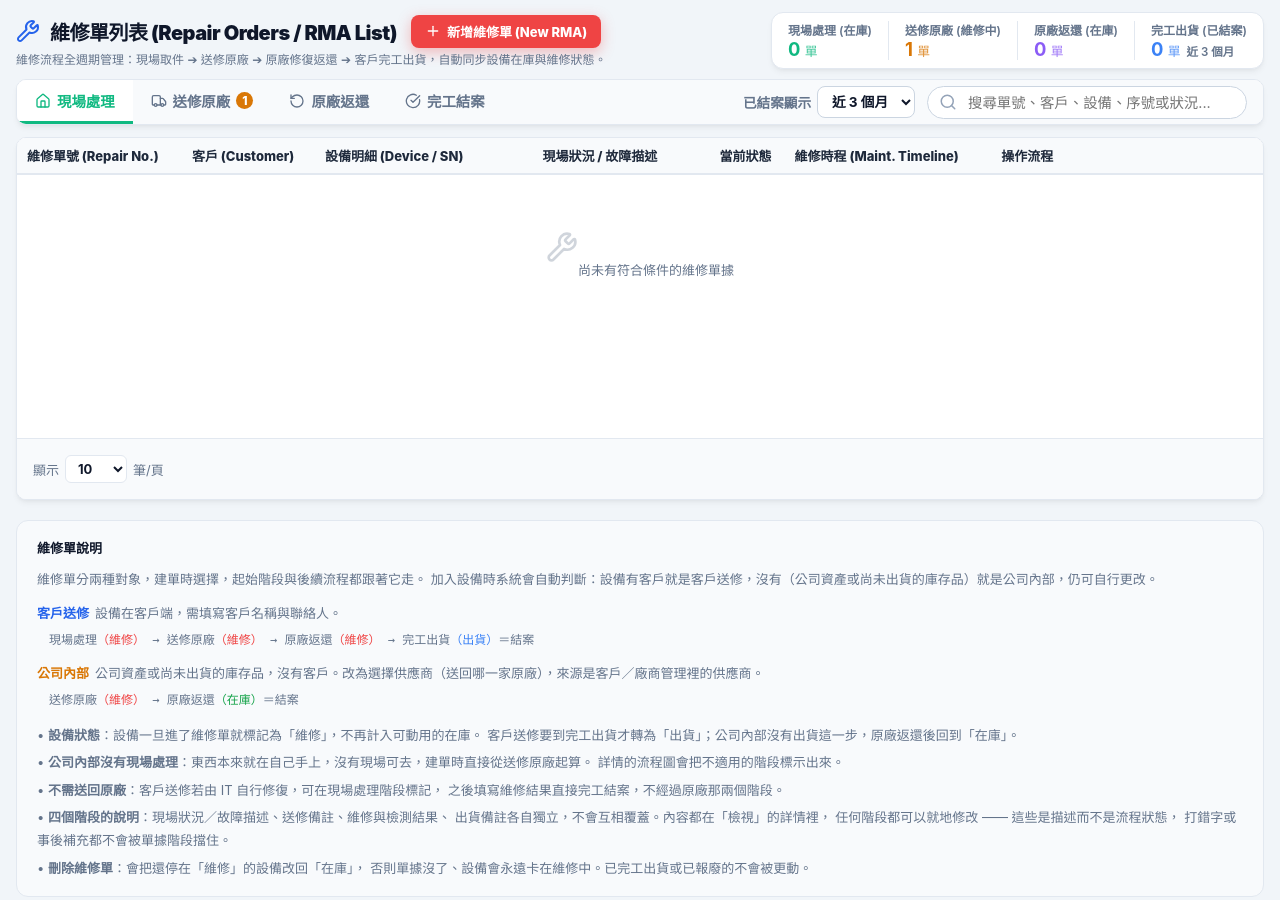
Scenario: 維修單列表 › 送修中、沒有代用機：有「提供代用機」，按了打開借用單並帶入維修單
Click the button "送修原廠 1".
click(202, 102)  # box [133, 80, 272, 124]
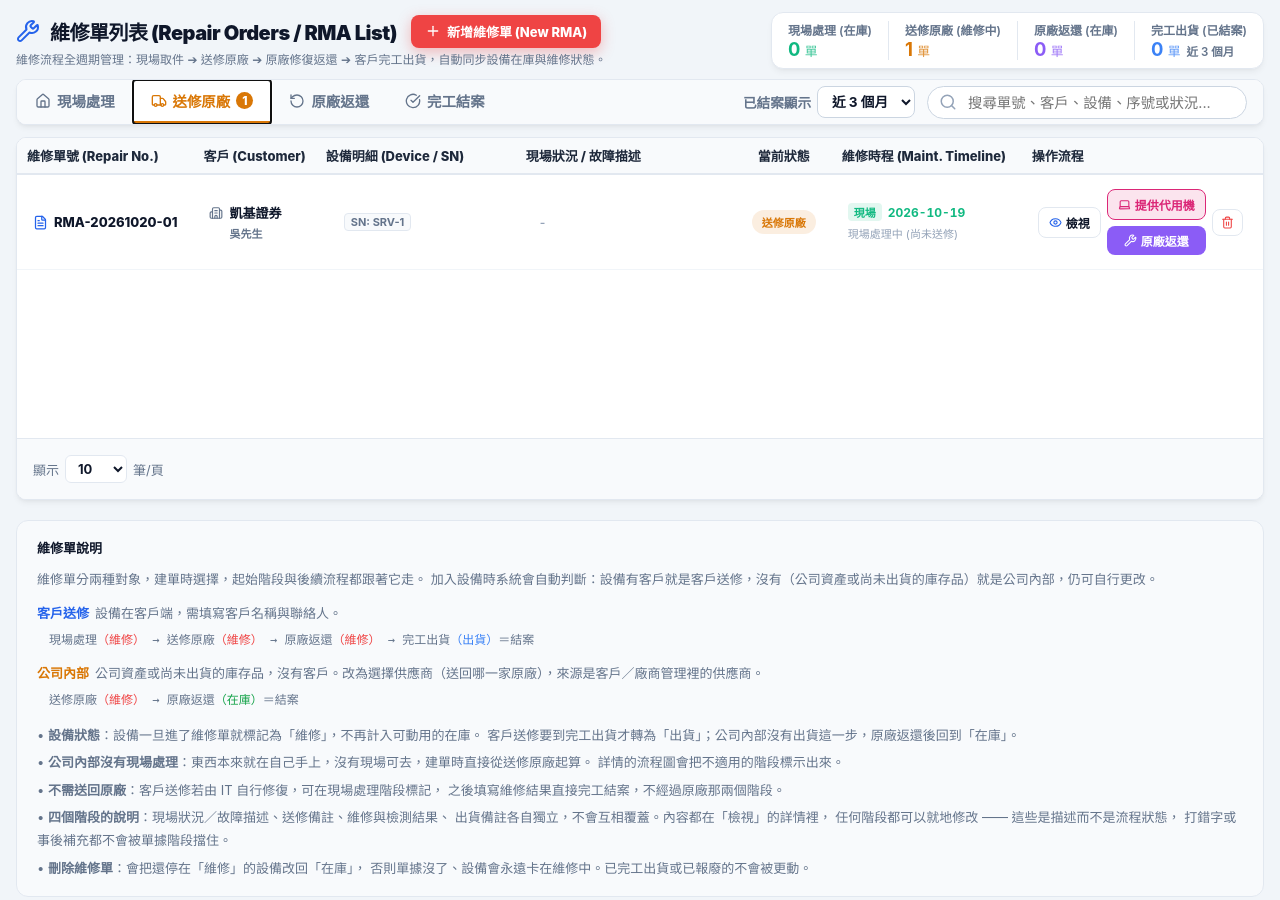
Click the button "提供代用機".
click(1156, 204)  # box [1107, 189, 1206, 220]
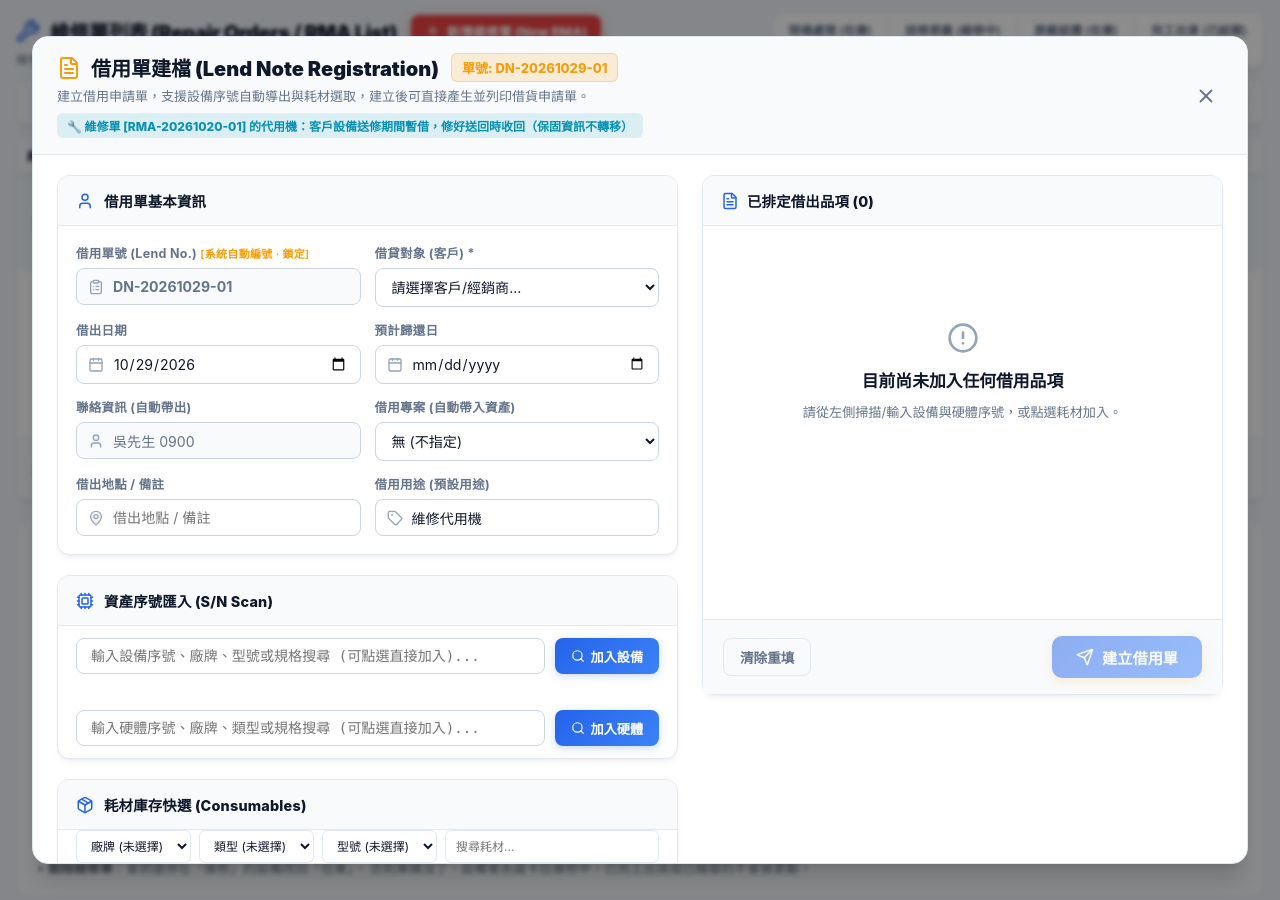
Result: the text with test id "lend-repair-loaner-banner" shows "維修單 [RMA-20261020-01] 的代用機" at [57, 113, 643, 138]
Result: the field showing "吳先生 0900" below "聯絡資訊 (自動帶出)" is shown at [76, 422, 360, 459]
